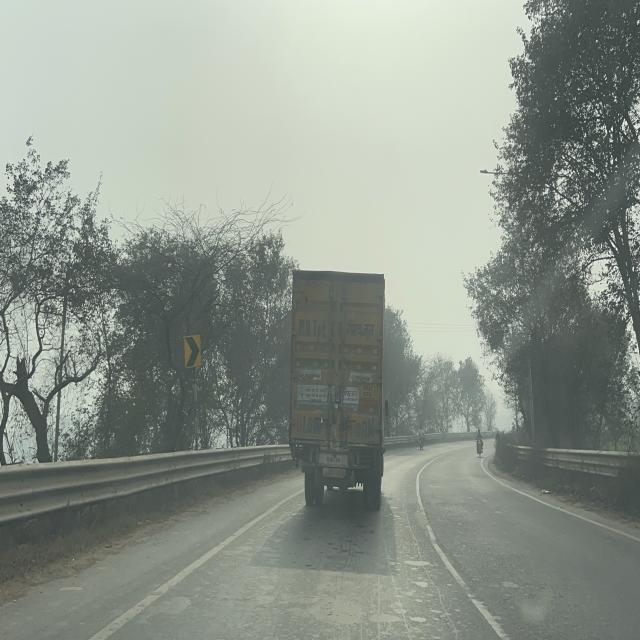TURN_RIGHT: (183, 334, 202, 369)
